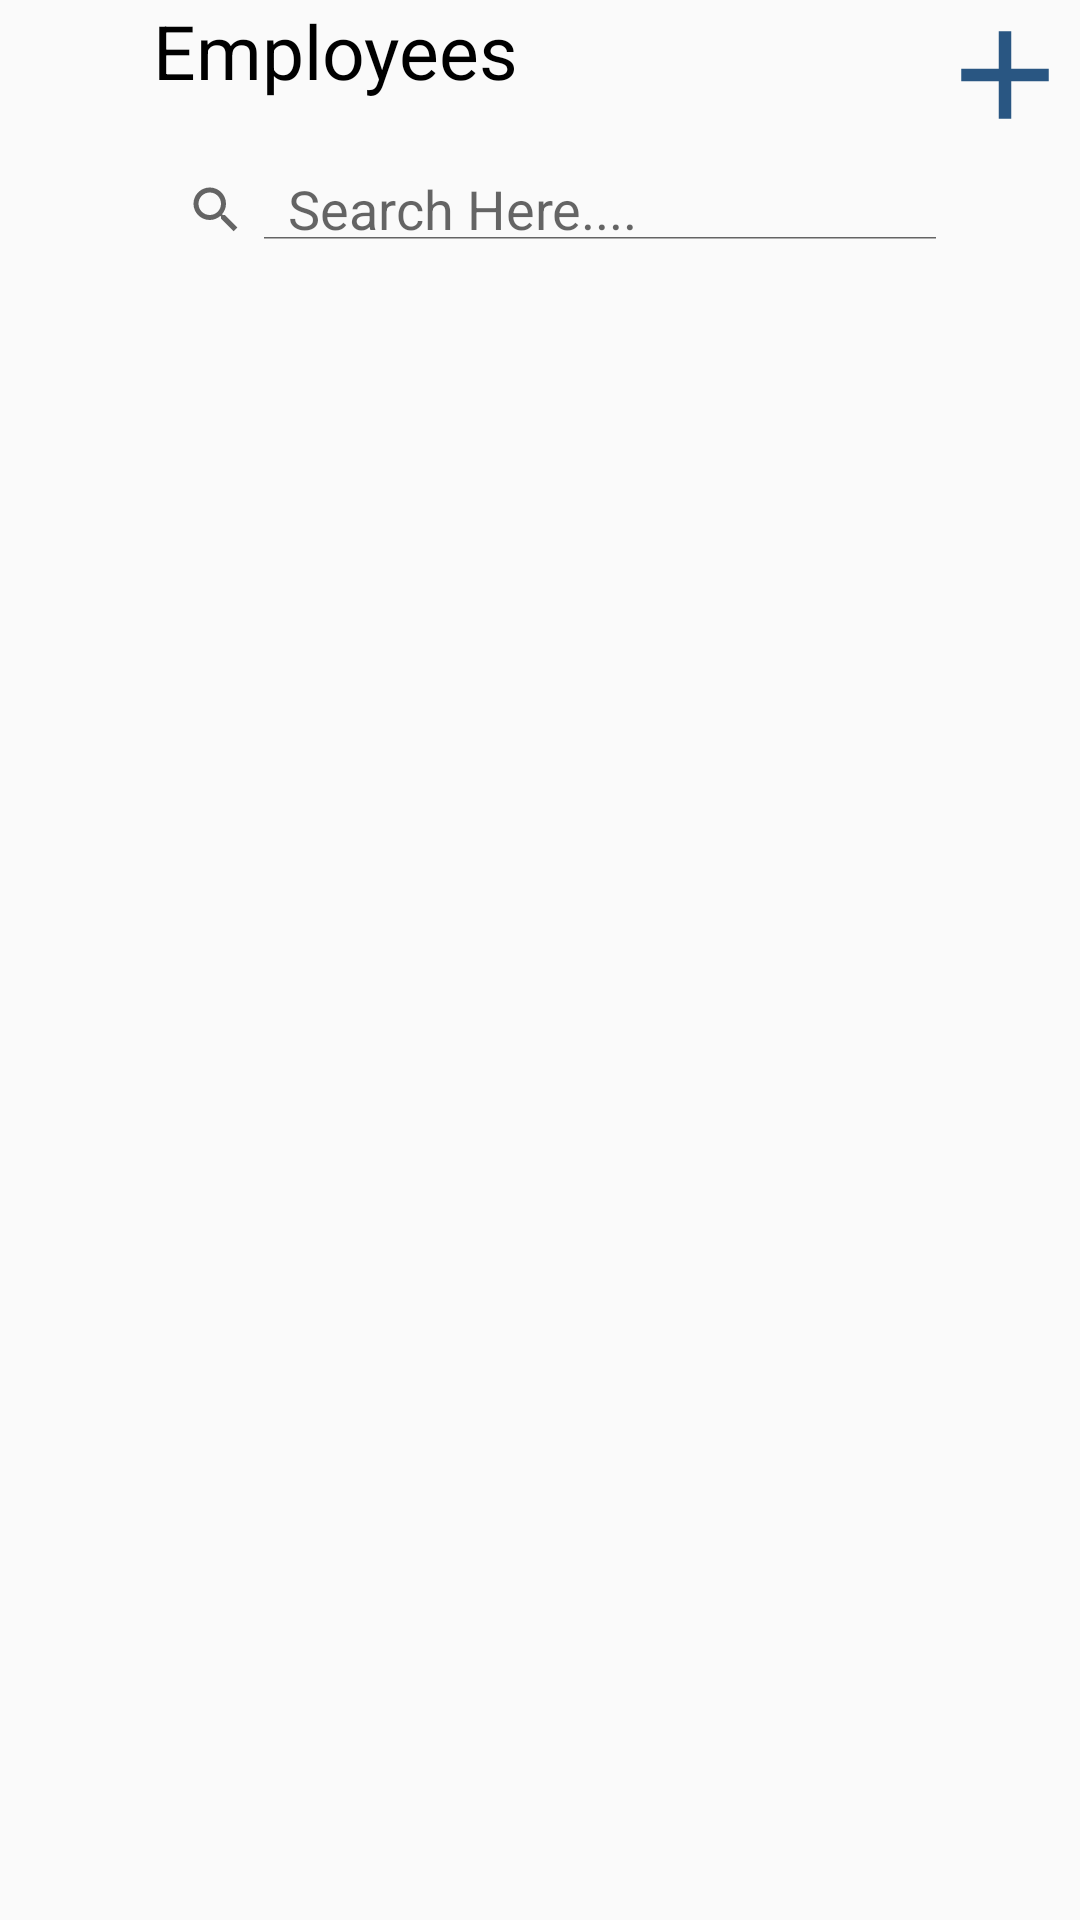

Where icons sit on this 1080x1920 app screen, as (x1, y1, x2, y2):
add: (961, 31, 1049, 119)
